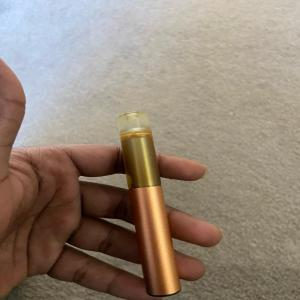Golden-E-Ciggirate: (110, 105, 189, 300)
